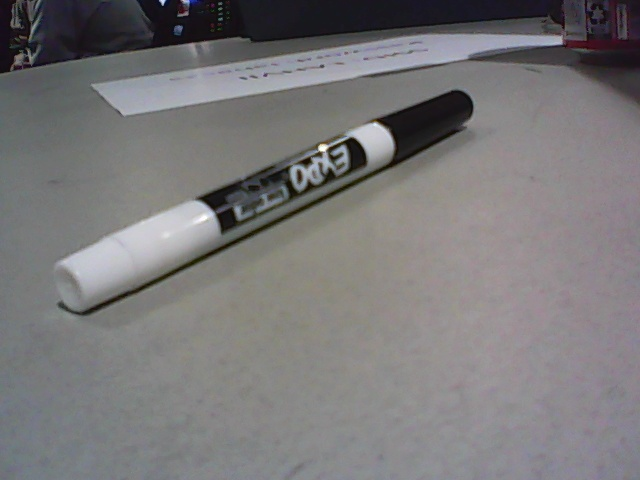marker: (53, 89, 473, 313)
